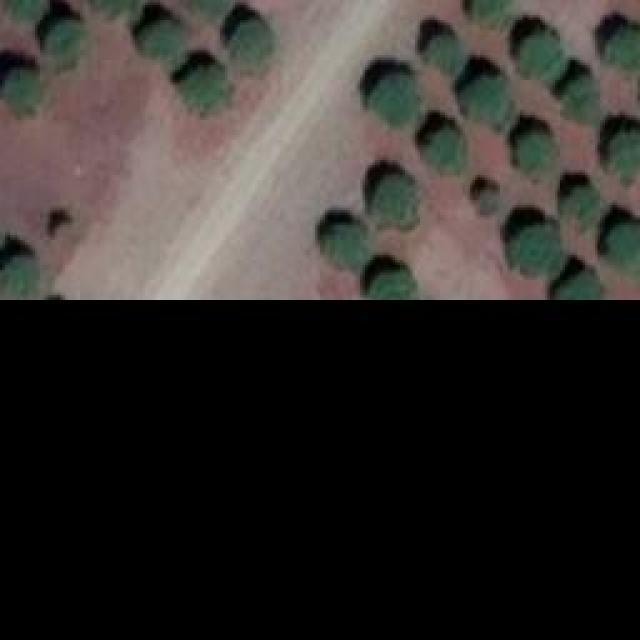Tree: (370, 73, 423, 128), (510, 223, 558, 276), (368, 177, 421, 225), (465, 70, 510, 120), (185, 65, 230, 115), (518, 30, 561, 80), (43, 17, 86, 65), (317, 223, 365, 266), (138, 18, 183, 63), (600, 132, 640, 180), (3, 70, 43, 118), (232, 20, 270, 68), (0, 255, 45, 295), (425, 128, 465, 173), (605, 220, 640, 270), (520, 130, 558, 173), (605, 28, 640, 73), (563, 80, 598, 118), (373, 268, 416, 298), (563, 185, 598, 218), (428, 33, 461, 66), (560, 273, 598, 298), (470, 188, 500, 218), (470, 0, 510, 22), (180, 0, 223, 20), (0, 0, 42, 17), (93, 0, 128, 15)
